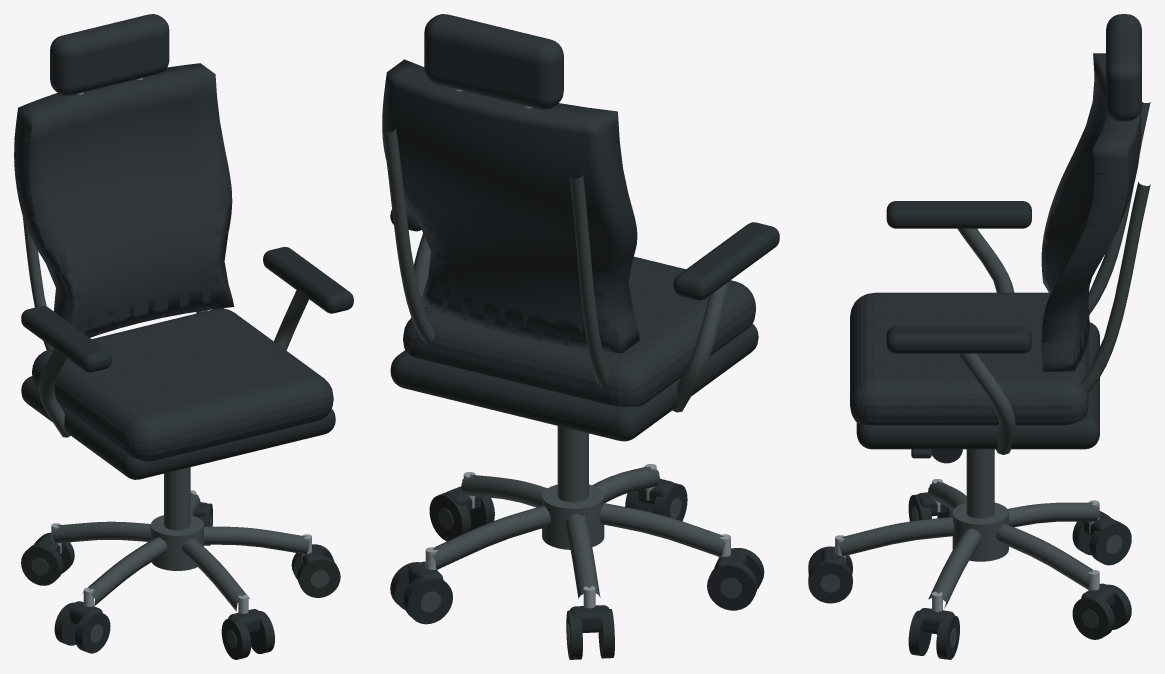
The model's file is chair.gltf.
The picture shows the model from 3 angles, left to right: view 1: azimuth 30°, elevation 25°; view 2: azimuth 150°, elevation 25°; view 3: azimuth 270°, elevation 25°; orthographic projection. The views are drawn at different scales.
Parts seen in each view (by area): view 1: Shaped lumbar upholstery (×2), Waterfall seat cushion, Supported headrest, Seat shell, Twin wheel tyre (×6), Adjustable armrest -1, Adjustable armrest 1, Central five-star hub (×2), Base spoke 1, Base spoke 3, Base spoke 4, Gaslift cylinder (+4 smaller); view 2: Shaped lumbar upholstery (×2), Waterfall seat cushion, Seat shell, Supported headrest, Twin wheel tyre (×8), Adjustable armrest -1, Connected back support 1 (×2), Connected back support -1 (×2), Base spoke 4, Base spoke 2, Gaslift cylinder, Central five-star hub (+5 smaller); view 3: Waterfall seat cushion, Shaped lumbar upholstery (×2), Seat shell, Twin wheel tyre (×8), Adjustable armrest 1, Adjustable armrest -1, Supported headrest, Connected back support 1 (×2), Central five-star hub (×2), Base spoke 0, Gaslift cylinder, Base spoke 2 (+7 smaller).
Part boxes in pixels (<box>): Shaped lumbar upholstery (×2): <box>14,63,233,337</box>; Waterfall seat cushion: <box>32,308,333,461</box>; Supported headrest: <box>50,14,169,95</box>; Seat shell: <box>21,376,335,479</box>; Twin wheel tyre (×6): <box>21,543,340,659</box>; Adjustable armrest -1: <box>21,306,111,372</box>; Adjustable armrest 1: <box>263,247,353,313</box>; Central five-star hub (×2): <box>150,515,203,570</box>; Base spoke 1: <box>203,526,309,554</box>; Base spoke 3: <box>52,521,150,542</box>; Base spoke 4: <box>83,537,167,605</box>; Gaslift cylinder: <box>164,467,190,530</box>; Shaped lumbar upholstery (×2): <box>382,59,639,353</box>; Waterfall seat cushion: <box>403,256,755,406</box>; Seat shell: <box>390,324,758,441</box>; Supported headrest: <box>424,14,563,109</box>; Twin wheel tyre (×8): <box>390,483,757,659</box>; Adjustable armrest -1: <box>673,222,779,300</box>; Connected back support 1 (×2): <box>382,127,434,343</box>; Connected back support -1 (×2): <box>569,173,608,386</box>; Base spoke 4: <box>599,503,725,556</box>; Base spoke 2: <box>432,506,551,569</box>; Gaslift cylinder: <box>557,426,588,502</box>; Central five-star hub: <box>542,484,604,549</box>; Waterfall seat cushion: <box>850,292,1088,425</box>; Shaped lumbar upholstery (×2): <box>1041,53,1141,371</box>; Seat shell: <box>856,322,1099,449</box>; Twin wheel tyre (×8): <box>808,520,1131,659</box>; Adjustable armrest 1: <box>886,326,1031,353</box>; Adjustable armrest -1: <box>886,201,1031,228</box>; Supported headrest: <box>1106,14,1141,121</box>; Connected back support 1 (×2): <box>1080,182,1150,393</box>; Central five-star hub (×2): <box>952,502,1008,561</box>; Base spoke 0: <box>838,517,954,555</box>; Gaslift cylinder: <box>966,449,994,518</box>; Base spoke 2: <box>996,524,1093,589</box>.
Size of what is drawn, in the model's own units: 0.7478 by 1.35 by 0.7527.
5 materials, 1 textured.
